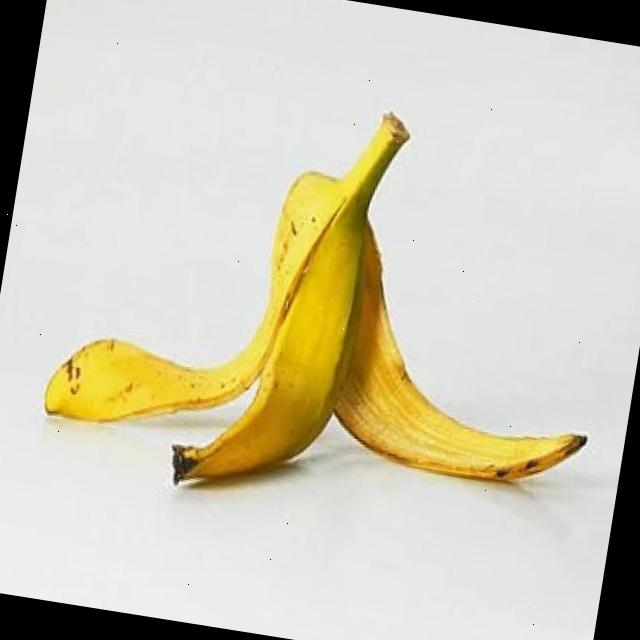banana-peel: (32, 63, 634, 549)
